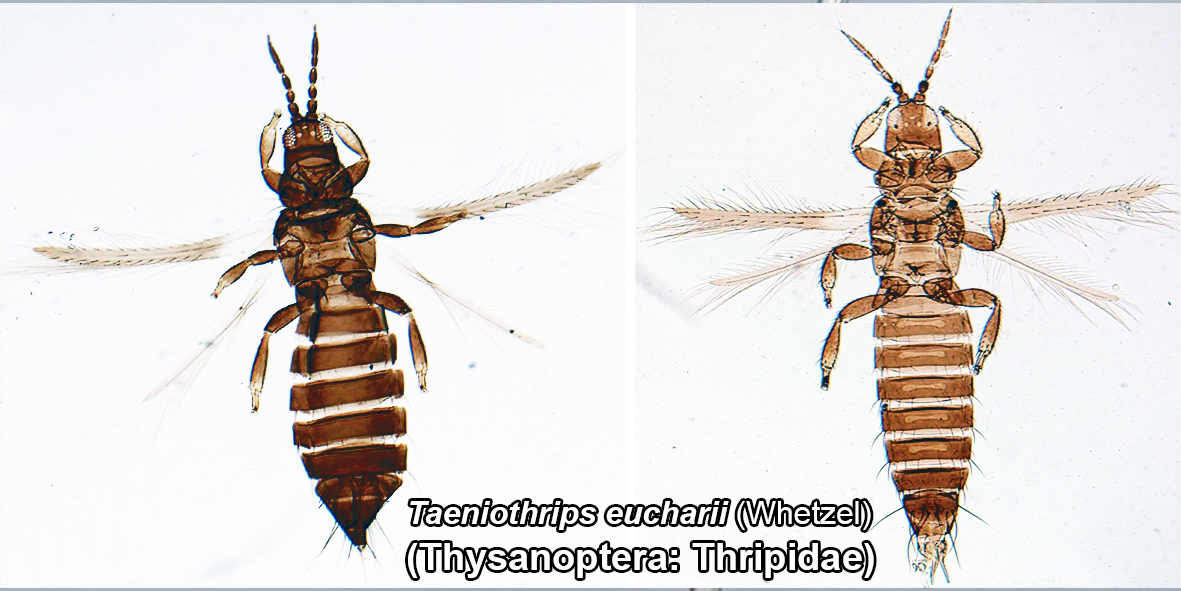Thripidae: (38, 25, 603, 556), (670, 24, 1173, 586)
